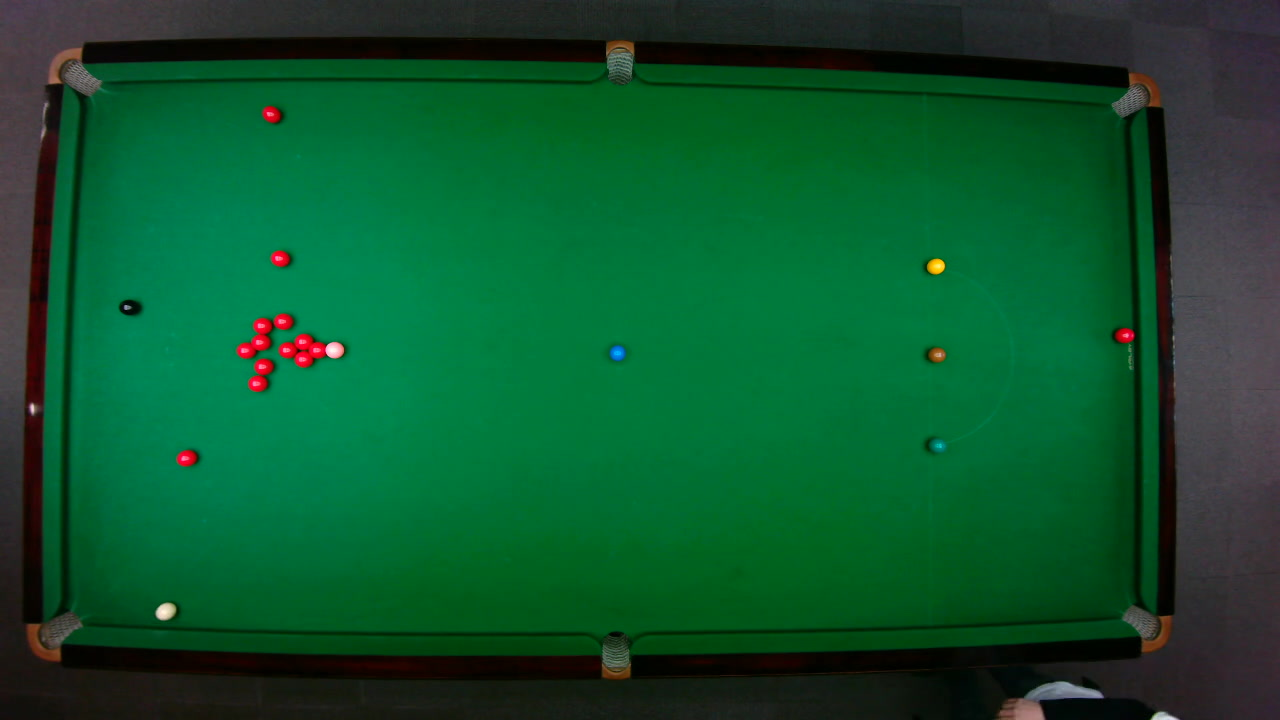bag: (24, 609, 83, 662), (45, 47, 101, 96), (1119, 603, 1172, 652), (1108, 71, 1161, 118), (600, 629, 630, 680), (605, 38, 633, 85)
black: (117, 298, 139, 315)
blue: (608, 343, 626, 361)
brown: (926, 346, 946, 362)
green: (926, 435, 946, 453)
pink: (323, 340, 345, 359)
red: (174, 448, 198, 467), (261, 104, 282, 123), (268, 249, 290, 267), (246, 374, 268, 392), (234, 340, 256, 358), (1112, 326, 1135, 343), (251, 316, 272, 334), (292, 350, 314, 367), (252, 357, 274, 374), (277, 340, 297, 358), (272, 312, 293, 329), (249, 333, 270, 350), (293, 332, 313, 349), (308, 340, 325, 358)
white: (154, 601, 177, 620)
yellow: (925, 256, 945, 274)
zone: (926, 267, 1013, 445)
